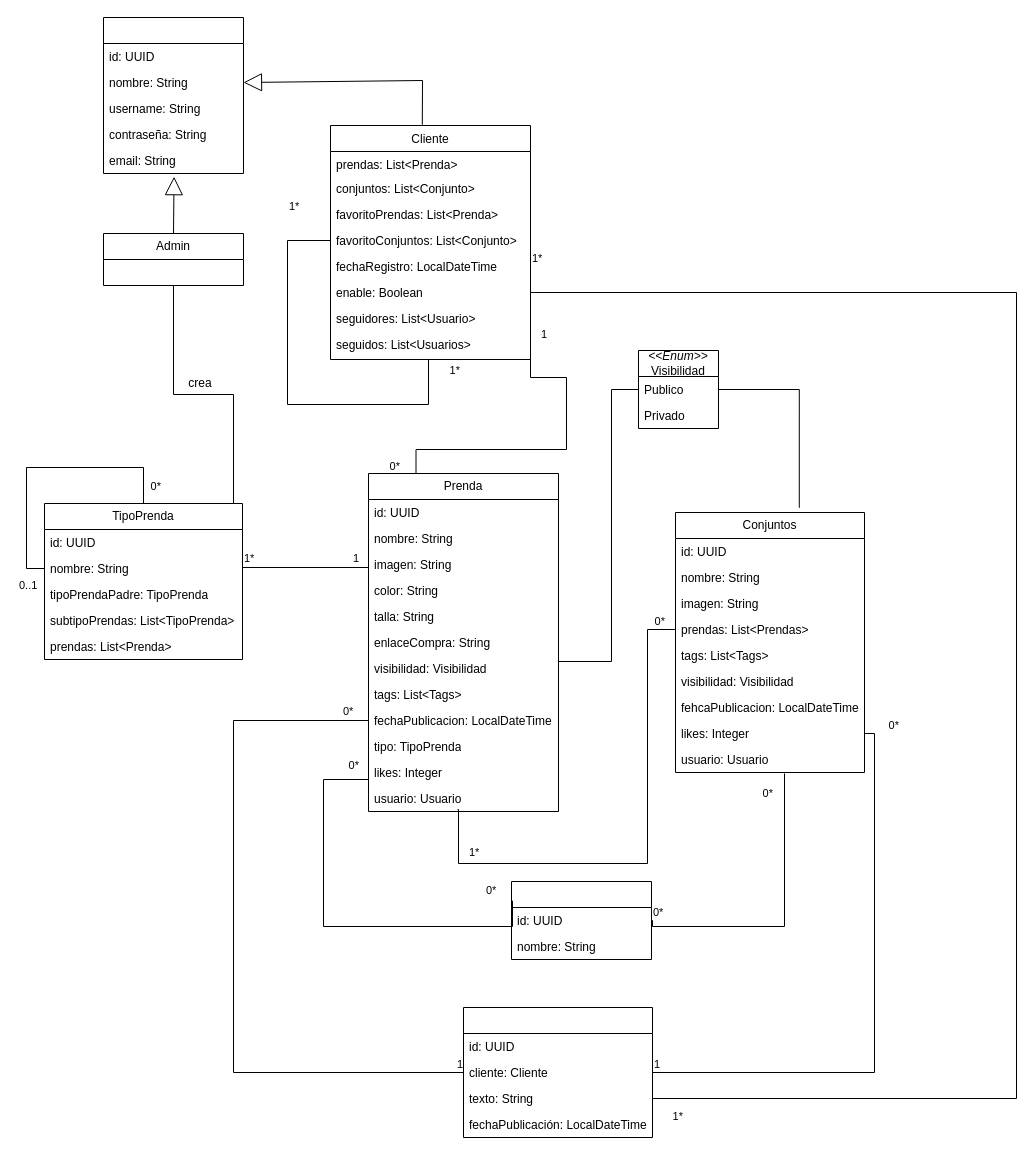
The diagram is 1035 pixels wide and 1158 high, and some of its shapes have lost their labels. The shapes that lost their labels are listed below. From the top down, each one's box as (x1, y1, x2, y2) in pixels, then its label:
(102, 16, 244, 174): Usuario
(510, 880, 652, 960): Tag
(462, 1006, 652, 1138): Comentario
